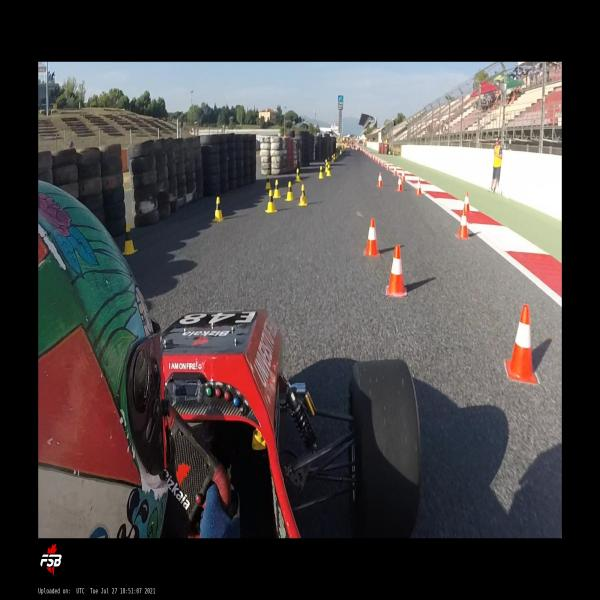orange_cone: (505, 304, 538, 385), (385, 245, 409, 298), (363, 218, 381, 257), (455, 206, 471, 240), (459, 191, 472, 217), (375, 172, 383, 188), (415, 180, 422, 196), (396, 176, 403, 191), (402, 171, 406, 182), (393, 166, 397, 176), (380, 159, 384, 167), (386, 163, 390, 171), (370, 154, 373, 159), (378, 157, 380, 164), (375, 156, 377, 163), (373, 155, 375, 161)
yellow_cone: (122, 223, 138, 256), (212, 196, 226, 222), (265, 189, 277, 213), (298, 184, 308, 206), (285, 181, 295, 201), (273, 179, 281, 199), (320, 165, 332, 178), (265, 174, 272, 190), (295, 169, 302, 182), (318, 166, 325, 179), (326, 164, 332, 176), (324, 160, 329, 172), (331, 154, 334, 164)
